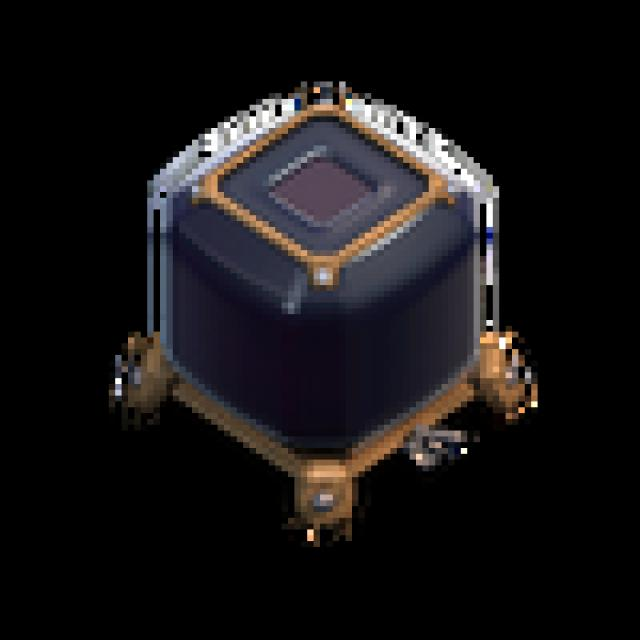dark_elixir_storage: (94, 76, 568, 558)
